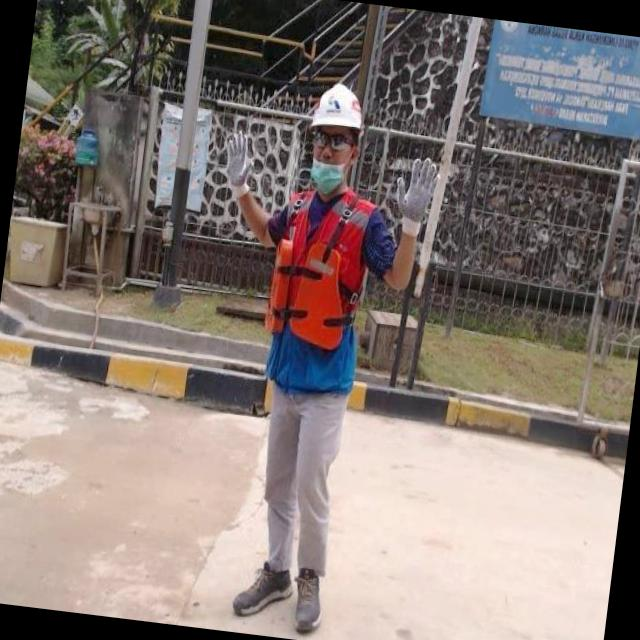vest: (255, 180, 380, 395)
